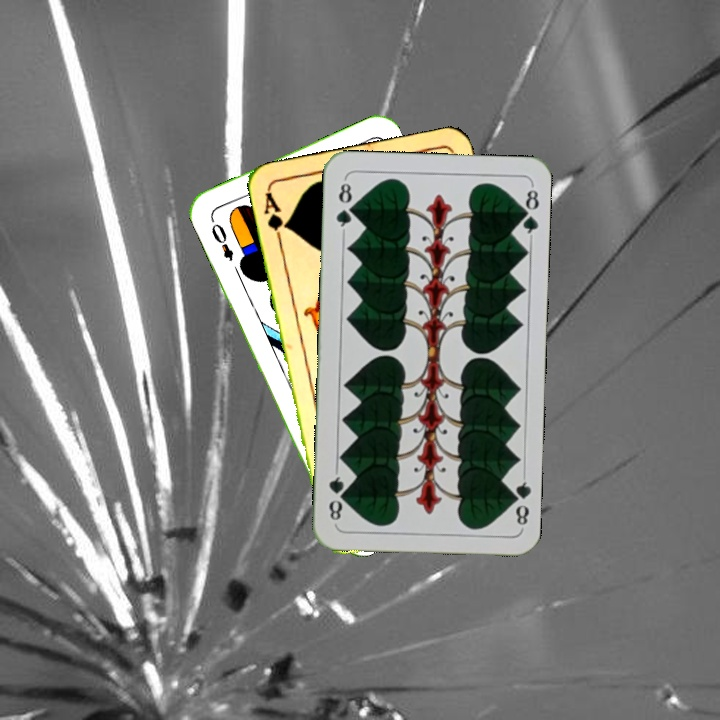EO: (207, 219, 236, 264)
G8: (506, 471, 533, 527), (332, 176, 356, 235)
GA: (260, 188, 291, 246)
